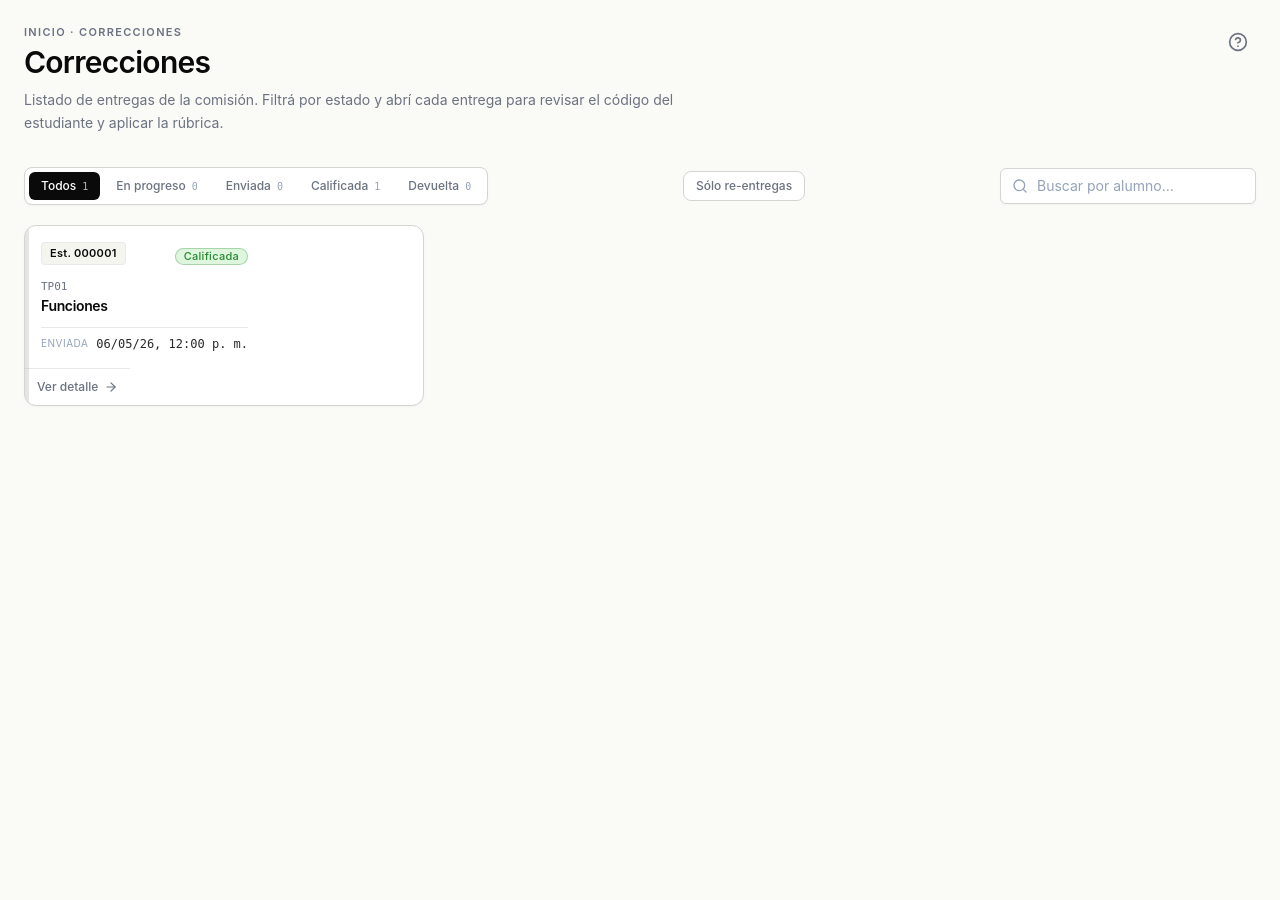
Test case: Pedir correccion › en graded aparece 'Pedir correccion' y ya no 'Devolver al estudiante'
Click the button with test id "entrega-drill-btn": (83, 254) x1=24 y1=224 x2=424 y2=406
(page scrolled)
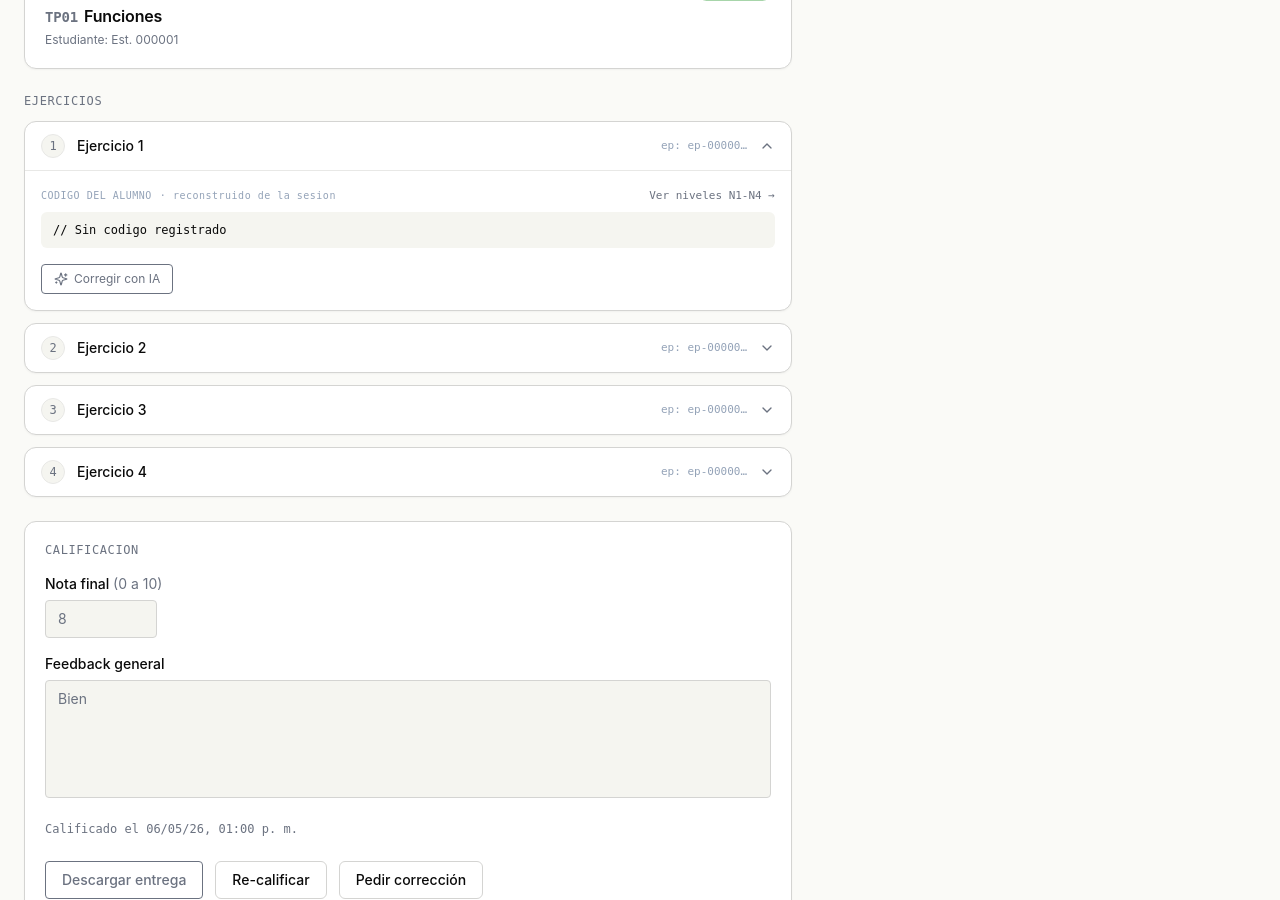
Expected: the button with test id "devolver-btn" reads "Pedir corrección", x1=339 y1=861 x2=483 y2=899
